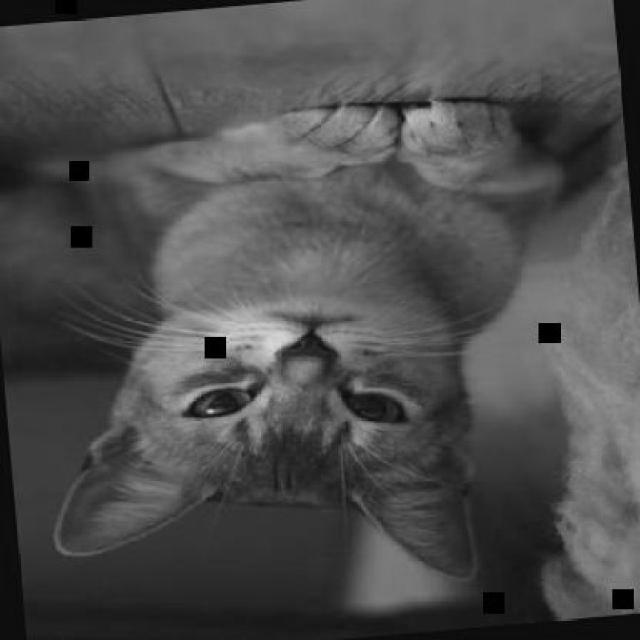Cat: (0, 84, 602, 620)
